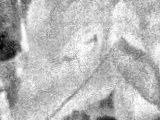eye: (80, 33, 104, 49)
